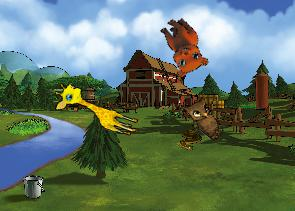bear: (147, 12, 215, 82)
giraffe: (49, 79, 144, 138)
owl: (179, 91, 233, 142)
